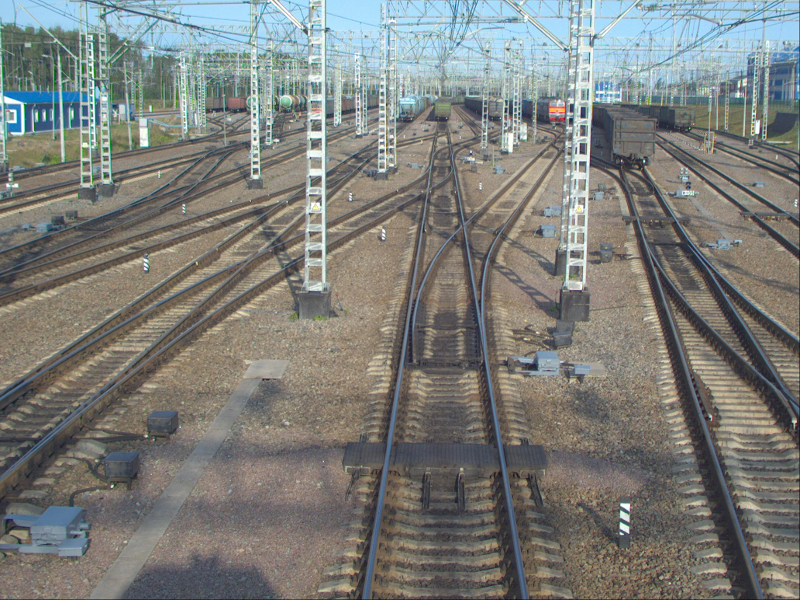railway_arrows: (393, 214, 495, 368)
